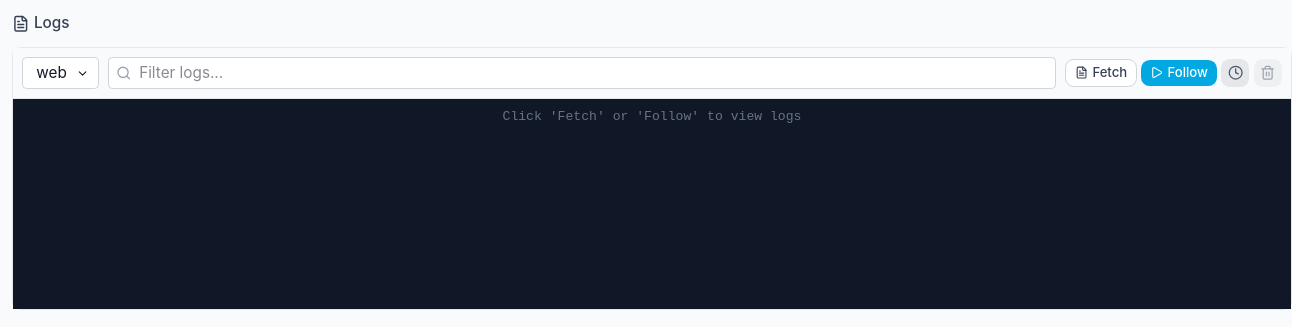
LogsSection › service dropdown › should show available services in dropdown
This screenshot has width=1292, height=327.
# Open dropdown
Click the button "web". click: {"x": 60, "y": 73}
box: x1=22 y1=57 x2=99 y2=89
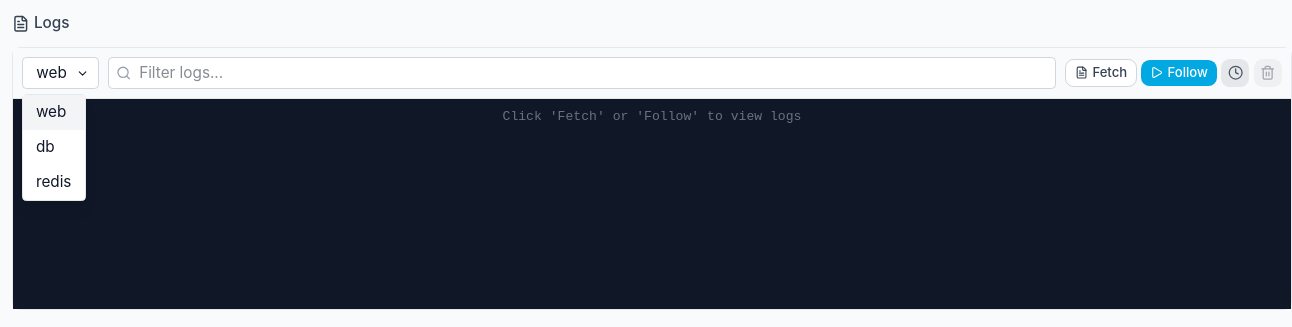
Expected: the option "db" is shown, x1=23 y1=130 x2=85 y2=165
Expected: the option "redis" is shown, x1=23 y1=165 x2=85 y2=200
